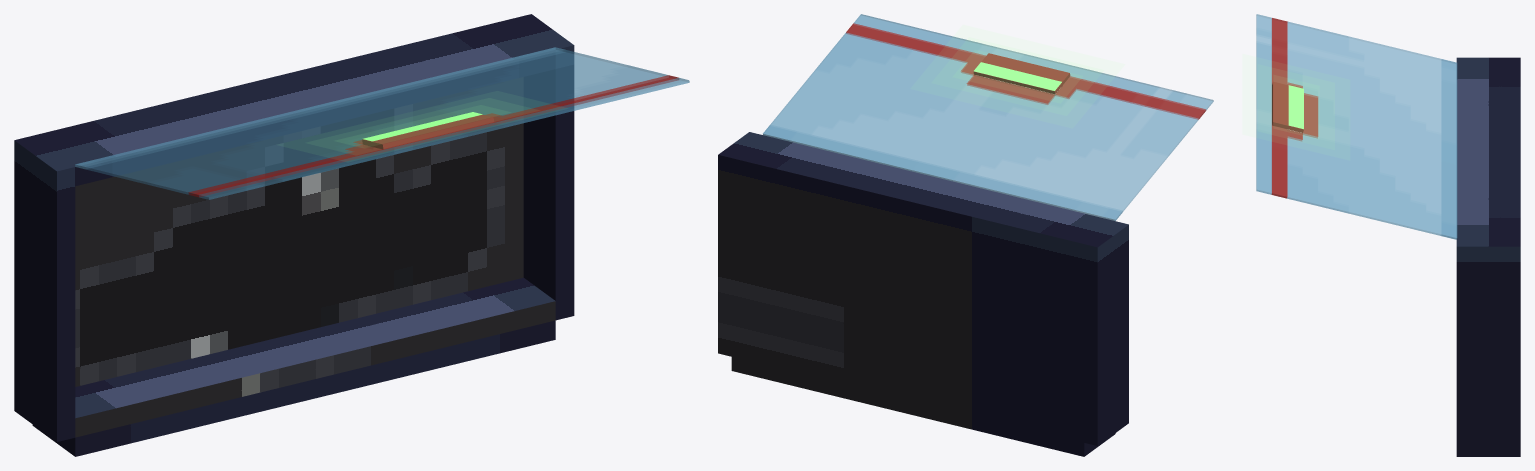
File: rescue_jaws_cabinet_open_empty.glb
The picture shows the model from 3 angles, left to right: view 1: azimuth 30°, elevation 25°; view 2: azimuth 150°, elevation 25°; view 3: azimuth 270°, elevation 25°; orthographic projection. The views are drawn at different scales.
Visible parts, largest first — view 1: Continuous_Cabinet_Shell, Closed_Thickness_Door_Glass, Lock_Overlay, Door_Handle; view 2: Continuous_Cabinet_Shell, Closed_Thickness_Door_Glass, Lock_Overlay, Door_Handle; view 3: Closed_Thickness_Door_Glass, Continuous_Cabinet_Shell, Lock_Overlay, Door_Handle.
Part boxes in pixels (<box>): Continuous_Cabinet_Shell: <box>14,14,574,456</box>; Closed_Thickness_Door_Glass: <box>75,47,689,199</box>; Lock_Overlay: <box>308,98,538,154</box>; Door_Handle: <box>362,114,494,149</box>; Continuous_Cabinet_Shell: <box>718,132,1128,456</box>; Closed_Thickness_Door_Glass: <box>763,14,1213,220</box>; Lock_Overlay: <box>932,38,1103,115</box>; Door_Handle: <box>973,53,1070,94</box>; Closed_Thickness_Door_Glass: <box>1256,14,1457,239</box>; Continuous_Cabinet_Shell: <box>1456,57,1520,456</box>; Lock_Overlay: <box>1258,65,1334,149</box>; Door_Handle: <box>1272,81,1303,132</box>.
Bounding box in the file's own units: 0.7875 × 0.5347 × 0.4899.
4 materials, 4 textured.
